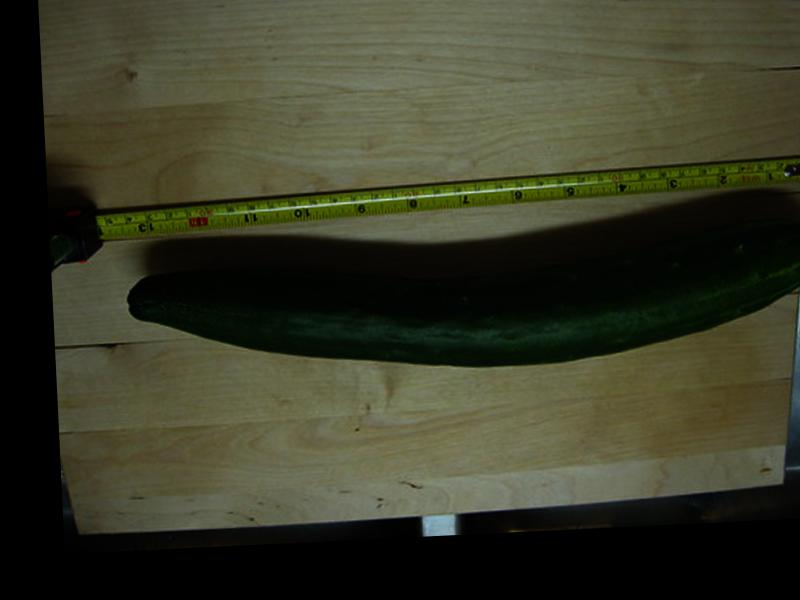Cucumber: (125, 215, 800, 383)
